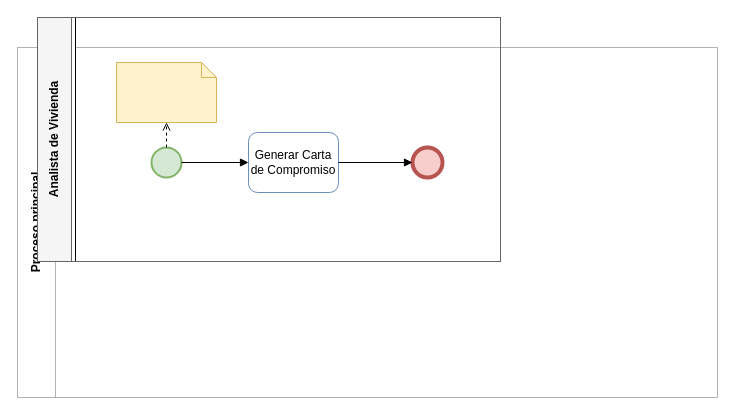
Image size: 735x415. Some labels were removed from this diagram. The shapes that lost their labels are listed below. From the top down, each one's centre as x and y in pixels, then its label:
At pixel 166 92: "Se habilita cuando la constructora solicito la carta de compromiso".
At pixel 427 162: "Fin".
